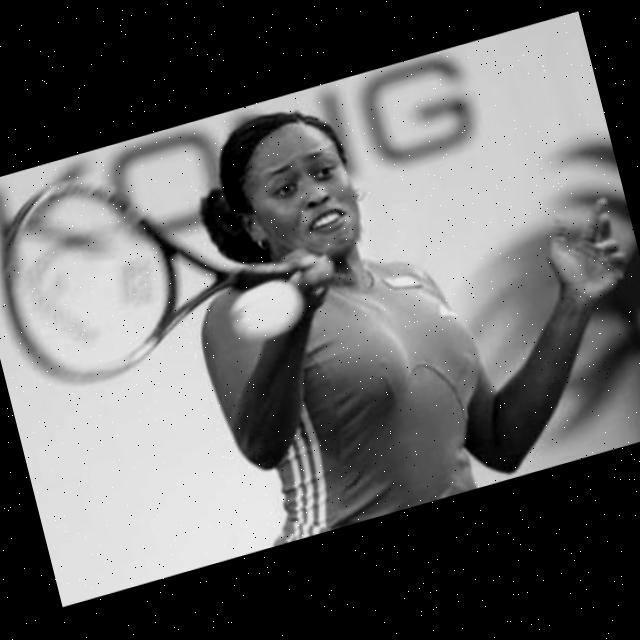face: (222, 98, 403, 293)
